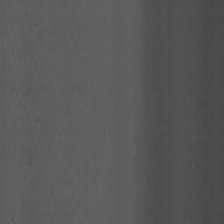silk_spot: (14, 17, 63, 178)
